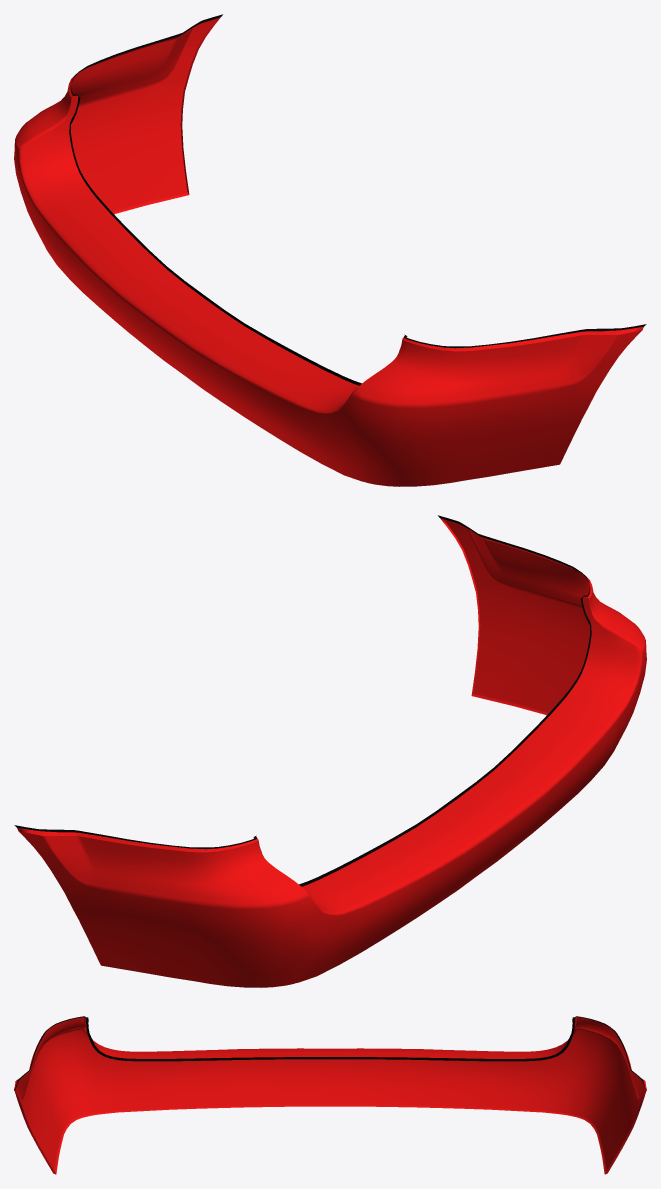
The picture shows the model from 3 angles, top to bottom: view 1: azimuth 30°, elevation 25°; view 2: azimuth 150°, elevation 25°; view 3: azimuth 270°, elevation 25°; orthographic projection. The views are drawn at different scales.
Visible parts, largest first — view 1: N664_9A_561G_C_1_DaS_N664_9A_561G_C, N664_9A_561G_C_N664_9A_561G_C_2_D, N664_9A_561G_C_1_DaS_N664_9A_561G_C_E; view 2: N664_9A_561G_C_1_DaS_N664_9A_561G_C, N664_9A_561G_C_N664_9A_561G_C_2_D, N664_9A_561G_C_1_DaS_N664_9A_561G_C_E; view 3: N664_9A_561G_C_1_DaS_N664_9A_561G_C, N664_9A_561G_C_N664_9A_561G_C_2_D, N664_9A_561G_C_1_DaS_N664_9A_561G_C_E.
Part boxes in pixels (bbox=[...]): N664_9A_561G_C_1_DaS_N664_9A_561G_C: bbox=[14, 19, 641, 486]; N664_9A_561G_C_N664_9A_561G_C_2_D: bbox=[69, 14, 646, 385]; N664_9A_561G_C_1_DaS_N664_9A_561G_C_E: bbox=[68, 17, 643, 351]; N664_9A_561G_C_1_DaS_N664_9A_561G_C: bbox=[19, 520, 646, 987]; N664_9A_561G_C_N664_9A_561G_C_2_D: bbox=[14, 515, 591, 886]; N664_9A_561G_C_1_DaS_N664_9A_561G_C_E: bbox=[17, 518, 592, 852]; N664_9A_561G_C_1_DaS_N664_9A_561G_C: bbox=[16, 1017, 644, 1173]; N664_9A_561G_C_N664_9A_561G_C_2_D: bbox=[15, 1016, 645, 1088]; N664_9A_561G_C_1_DaS_N664_9A_561G_C_E: bbox=[14, 1017, 646, 1174].
Size of the model in its own units: 71.32 by 35.82 by 188.
